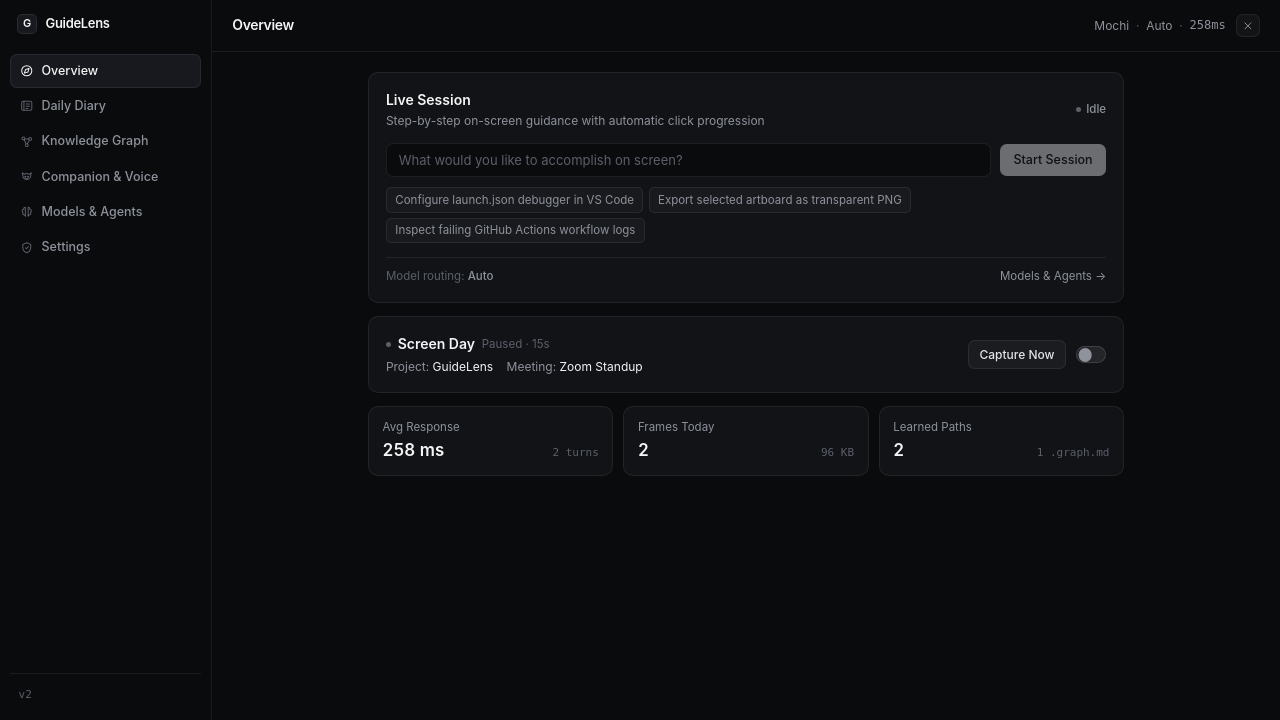
Test: AdminHub Control Center › renders minimalist AdminHub Overview on /hub route with calm header, Live Session, Screen Day, and 3-column metrics
Later steps or results of the test are not shown.
Expected: the element with test id "panel-overview" is shown, [368,72,1124,476]
Expected: the element with test id "topbar-status-summary" shows "258ms", [1094,17,1226,34]
// Start & stop Live Session
Type "Debug Rust build" into the field with test id "live-goal-input" at (689, 160), box [386,143,992,177]
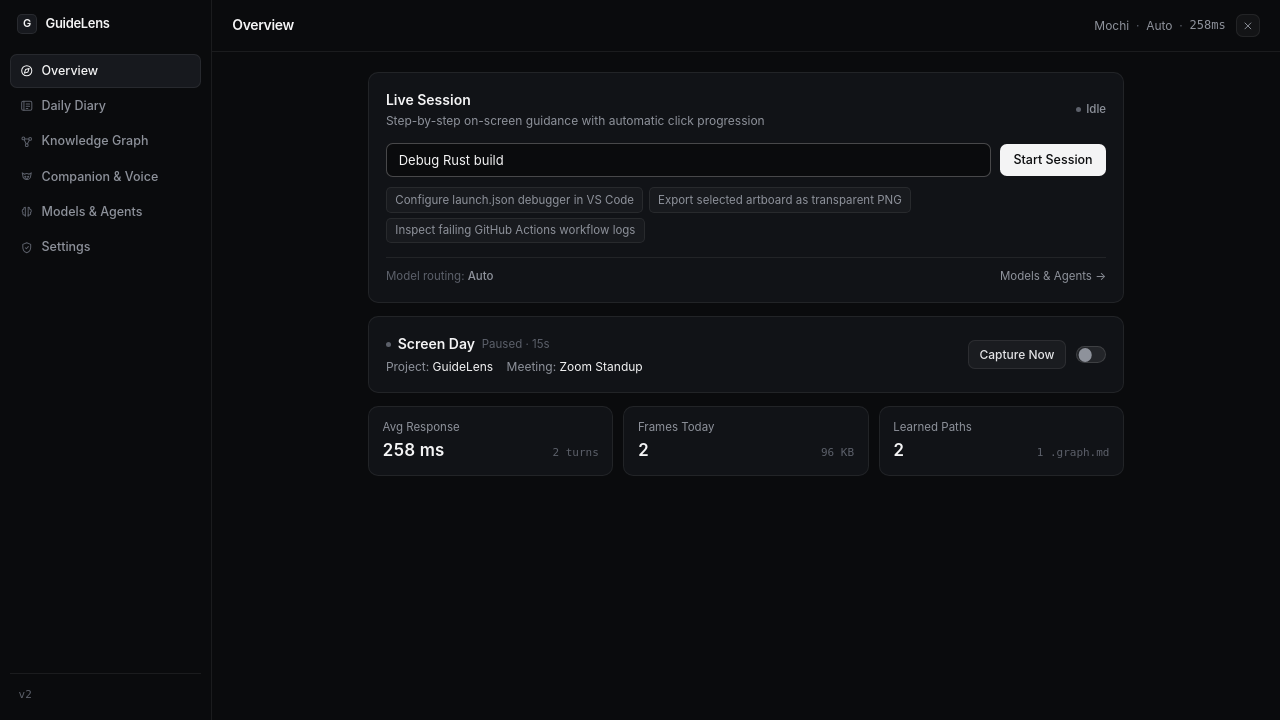
Click the button with test id "start-live-session-btn" at (1053, 160), box [1000,144,1106,176]
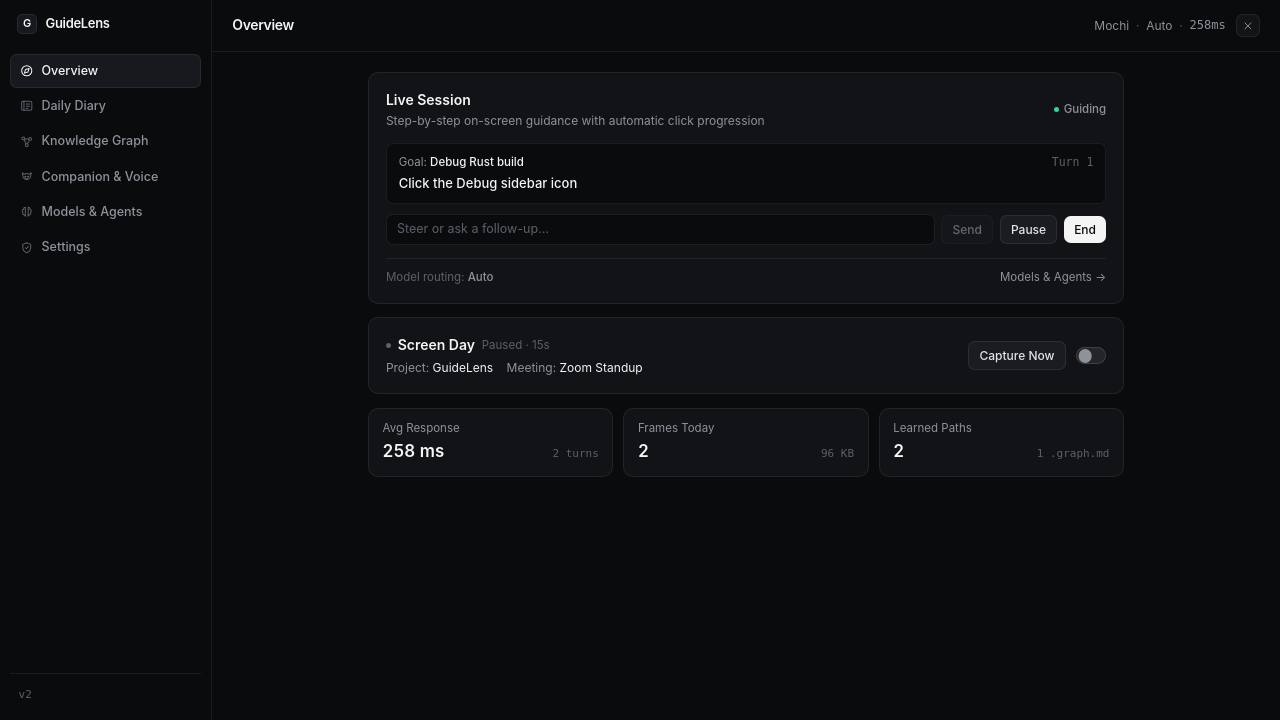
Expected: the element with test id "live-session-status-badge" reads "guiding", [1064,102,1106,116]
Expected: the element with test id "panel-overview" shows "Click the Debug sidebar icon", [399,175,577,191]
Click the button with test id "end-live-session-btn" at (1085, 229), box [1064,216,1106,243]
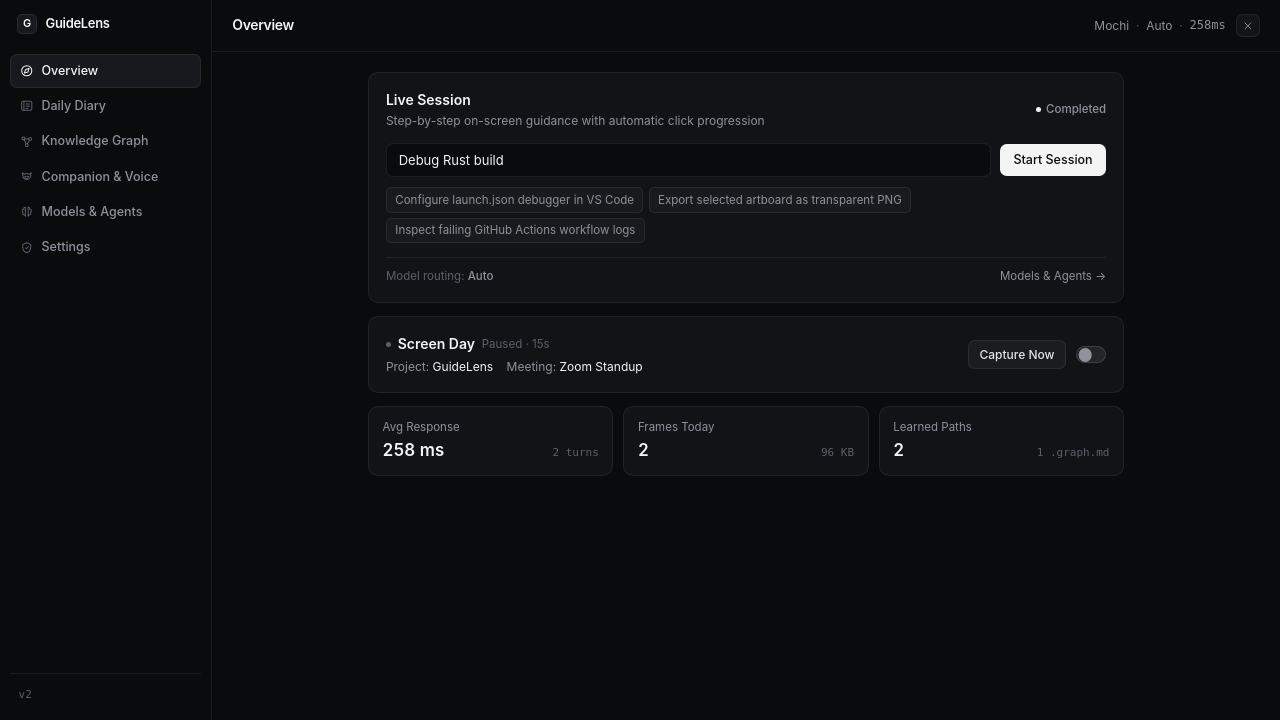
Expected: the element with test id "live-session-status-badge" reads "completed", [1046,102,1106,116]
